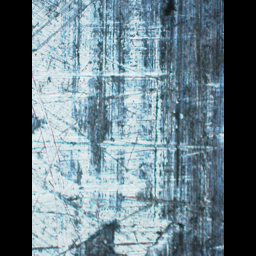d: (32, 0, 194, 253)
